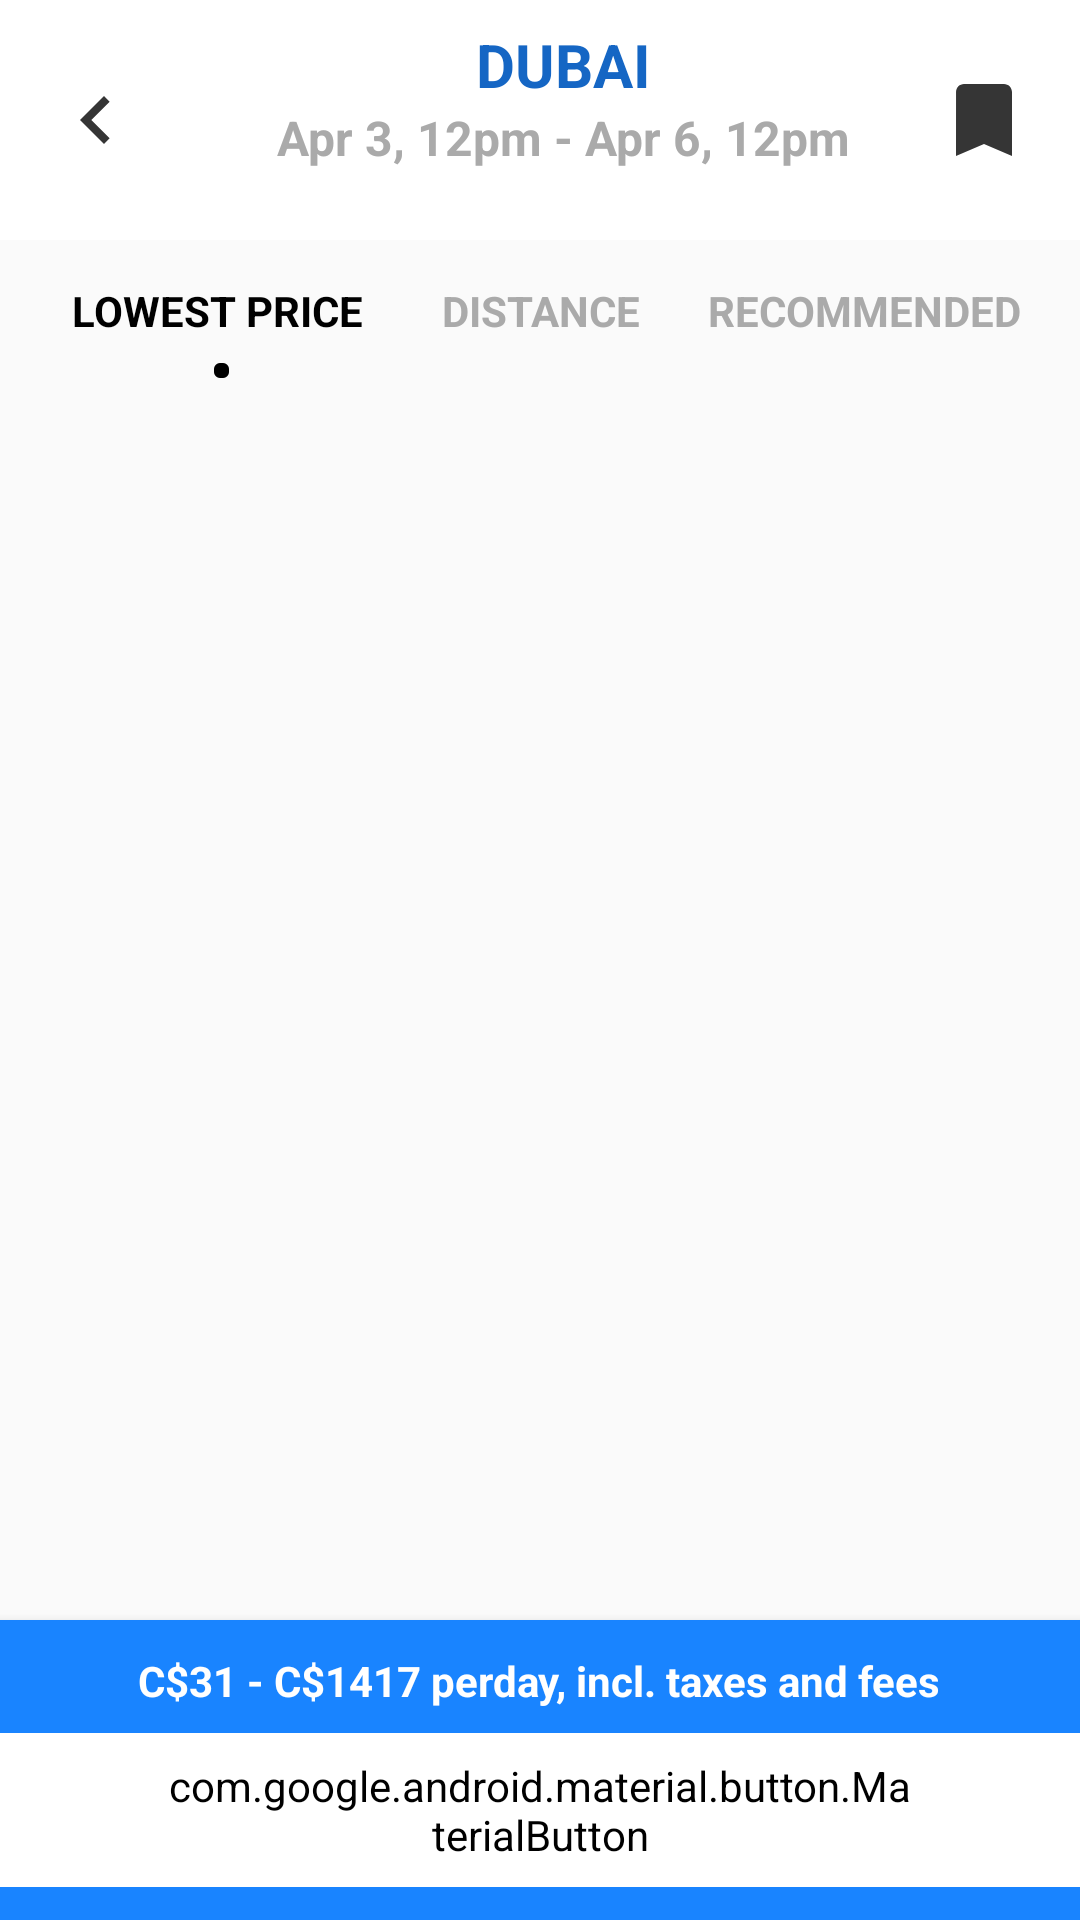

Where icons sit on this 1080px×1920px app screen, as (x1, y1, x2, y2):
back: (80, 96, 110, 144)
bookmark: (956, 84, 1012, 156)
